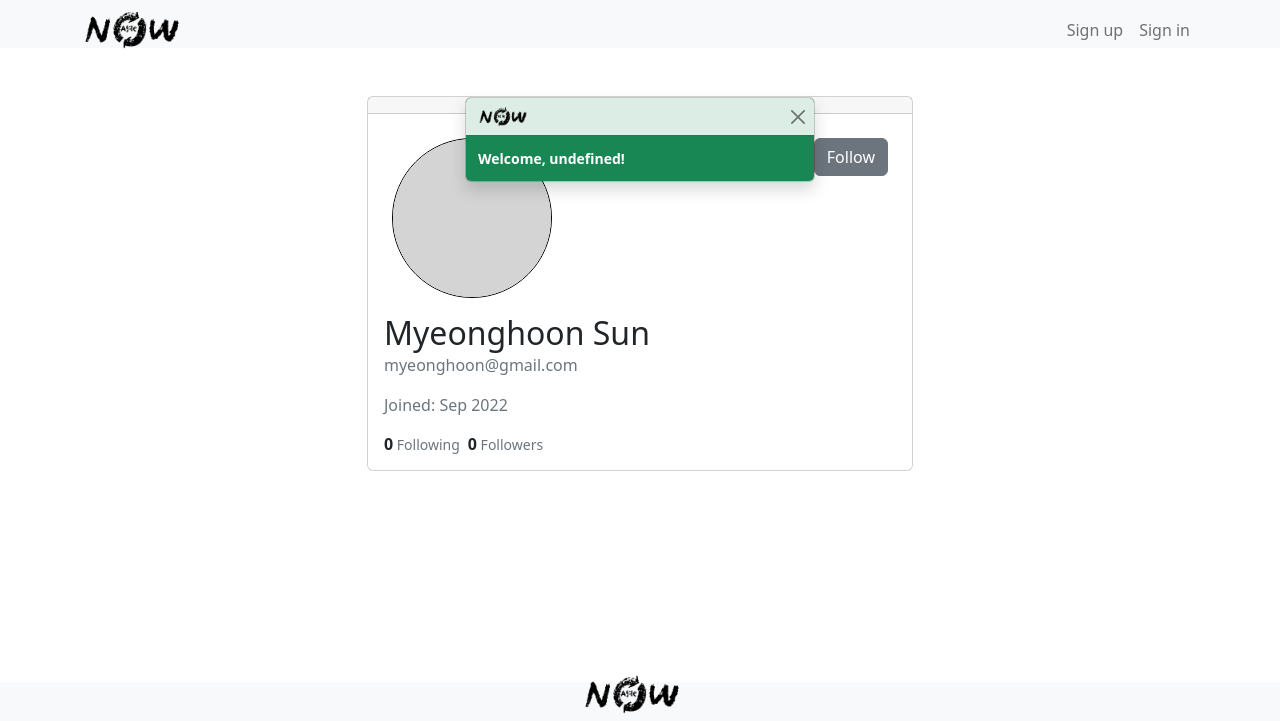
Display an error message when the user types in an incorrect password
The width and height of the screenshot is (1280, 721).
Click the link "Sign in". click: (1165, 30)
box: [1139,19,1190,41]
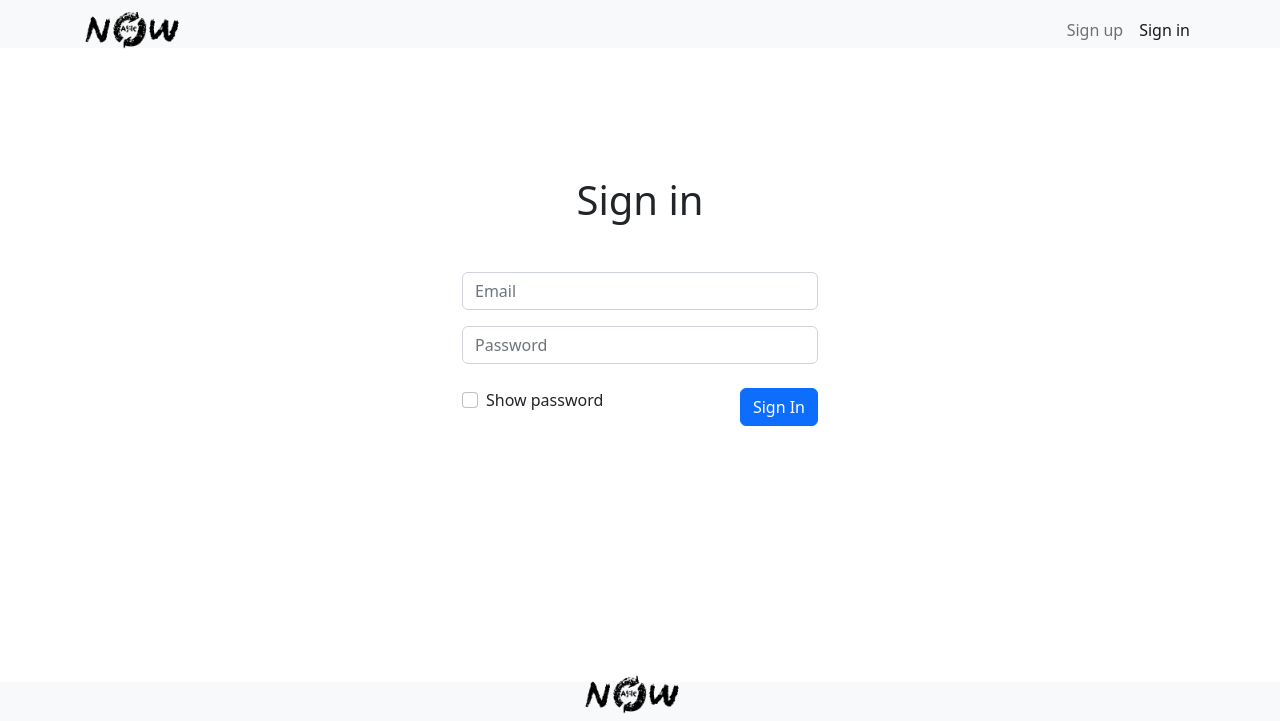
Type "myeonghoon@gmail.com" into the field labelled "Email". click: (640, 291)
box: [462,272,818,310]
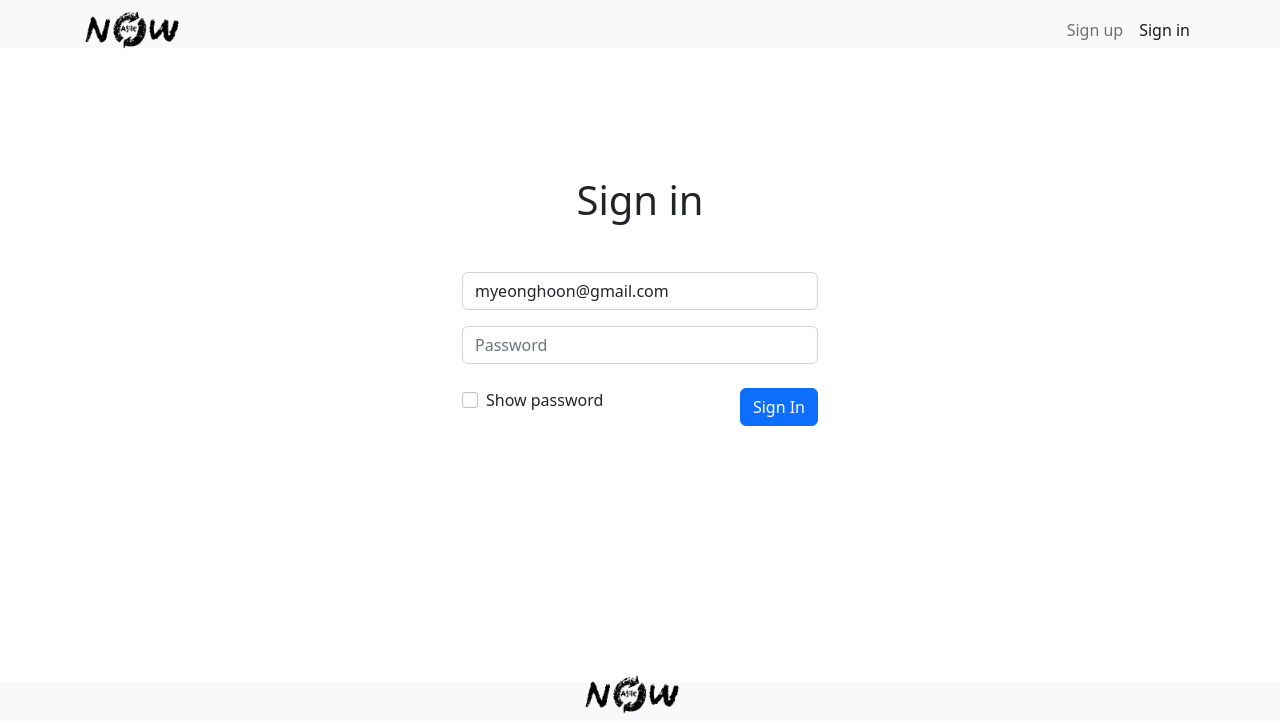
Type "incorrectPassword" into the password field labelled "Password". click: (640, 345)
box: [462,326,818,364]
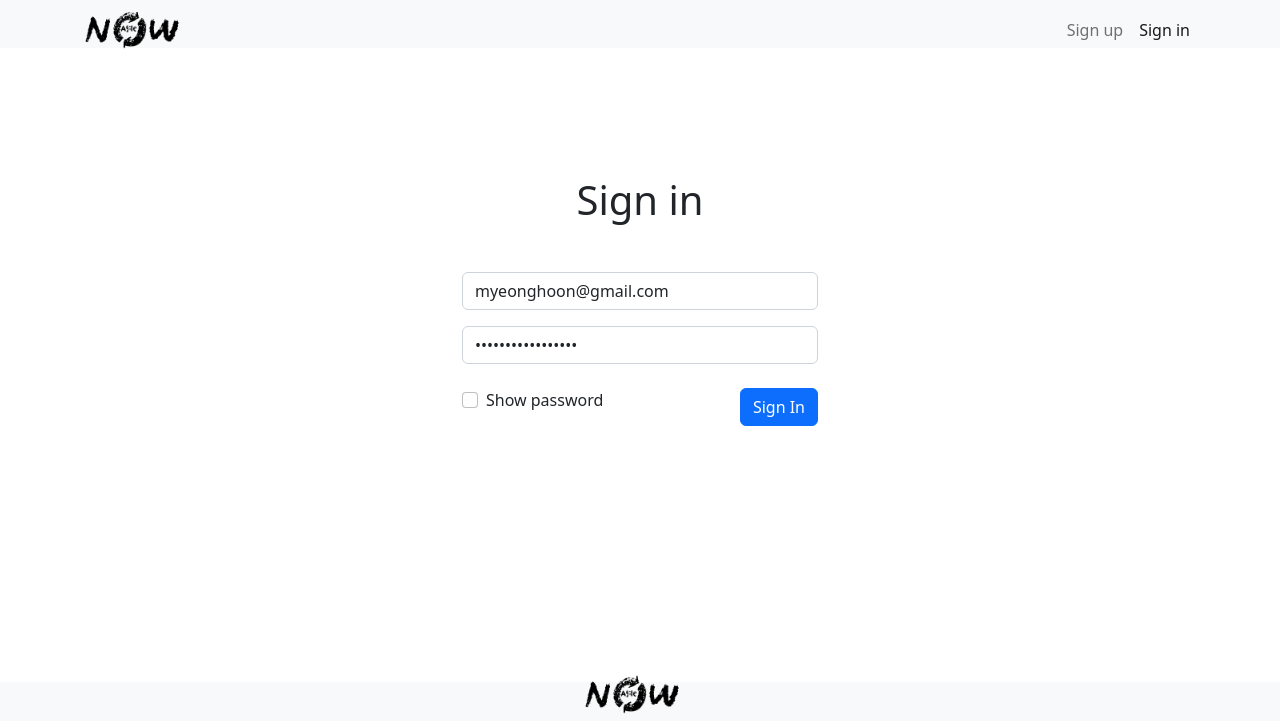
Click the button "Sign In". click: (779, 407)
box: [740,388,818,426]
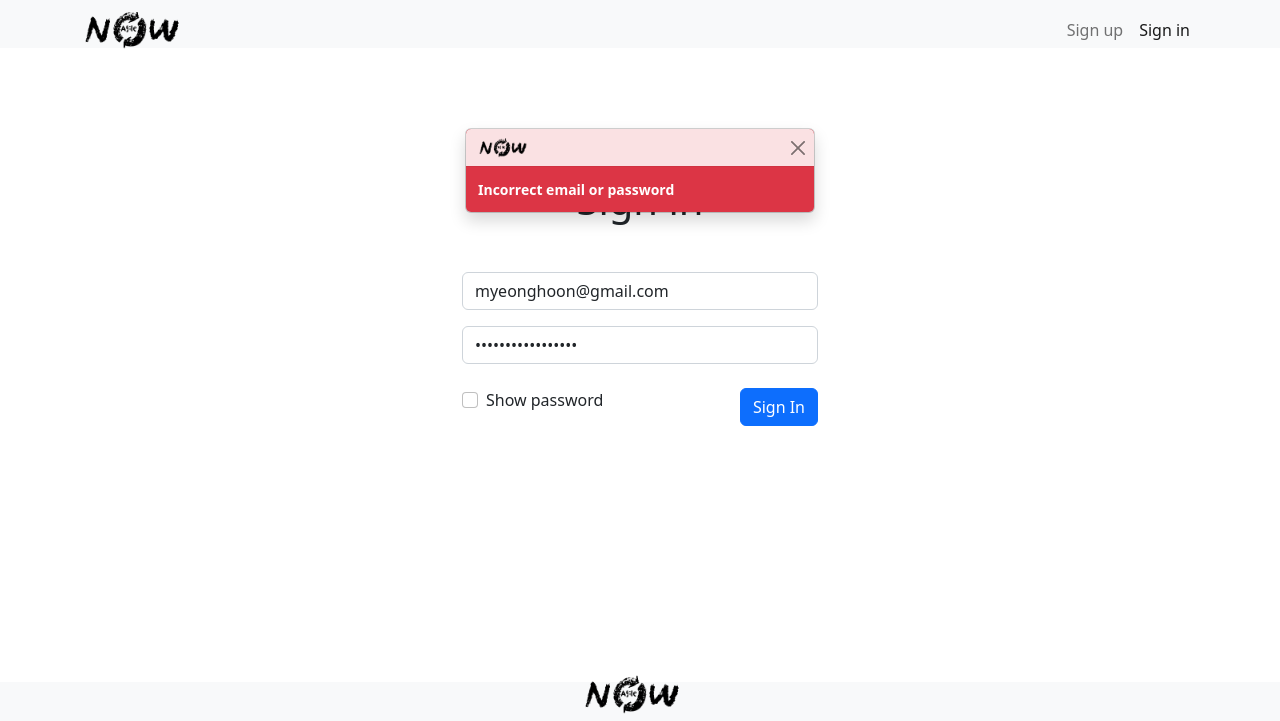
Expected: the text "Incorrect email or password" is shown, [478,180,674,199]
